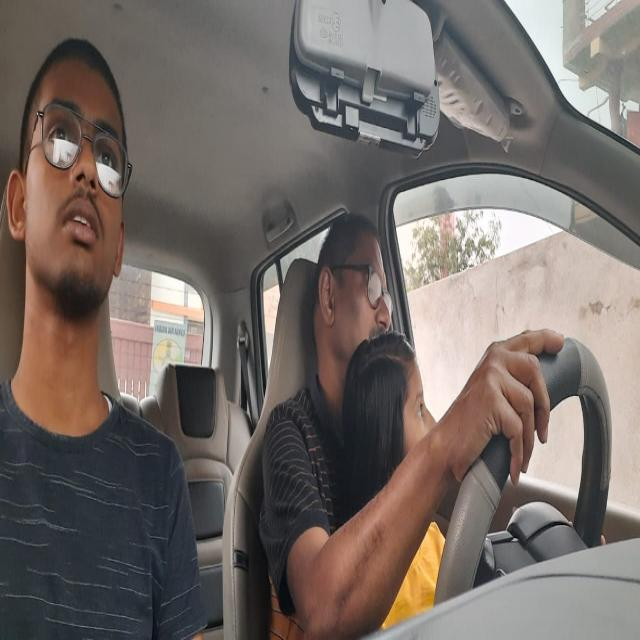child: (8, 26, 141, 380), (312, 206, 399, 391), (345, 333, 432, 493)
